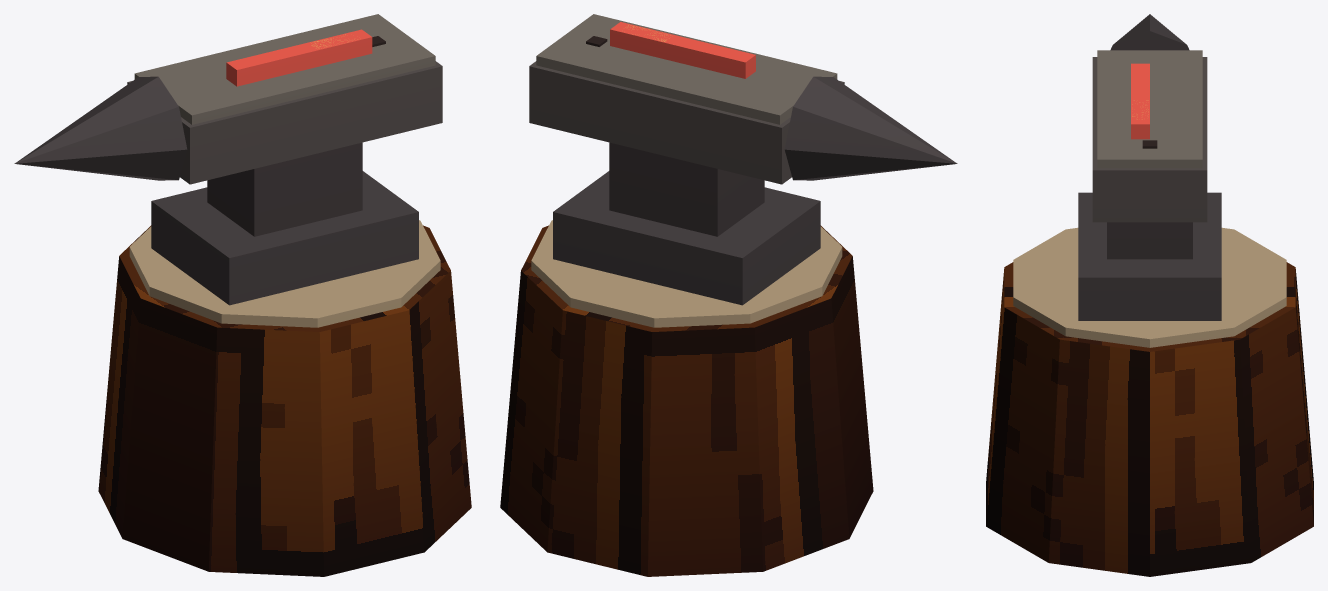
File: forge_anvil.glb
The picture shows the model from 3 angles, left to right: view 1: azimuth 30°, elevation 25°; view 2: azimuth 150°, elevation 25°; view 3: azimuth 270°, elevation 25°; orthographic projection. The views are drawn at different scales.
Parts seen in each view (by area): view 1: forge_anvil; view 2: forge_anvil; view 3: forge_anvil.
Part boxes in pixels (<box>): forge_anvil: <box>14,14,471,576</box>; forge_anvil: <box>500,14,957,576</box>; forge_anvil: <box>986,14,1313,576</box>.
Bounding box in the file's own units: 0.96 × 0.96 × 0.6848.
3 materials, 1 textured.
